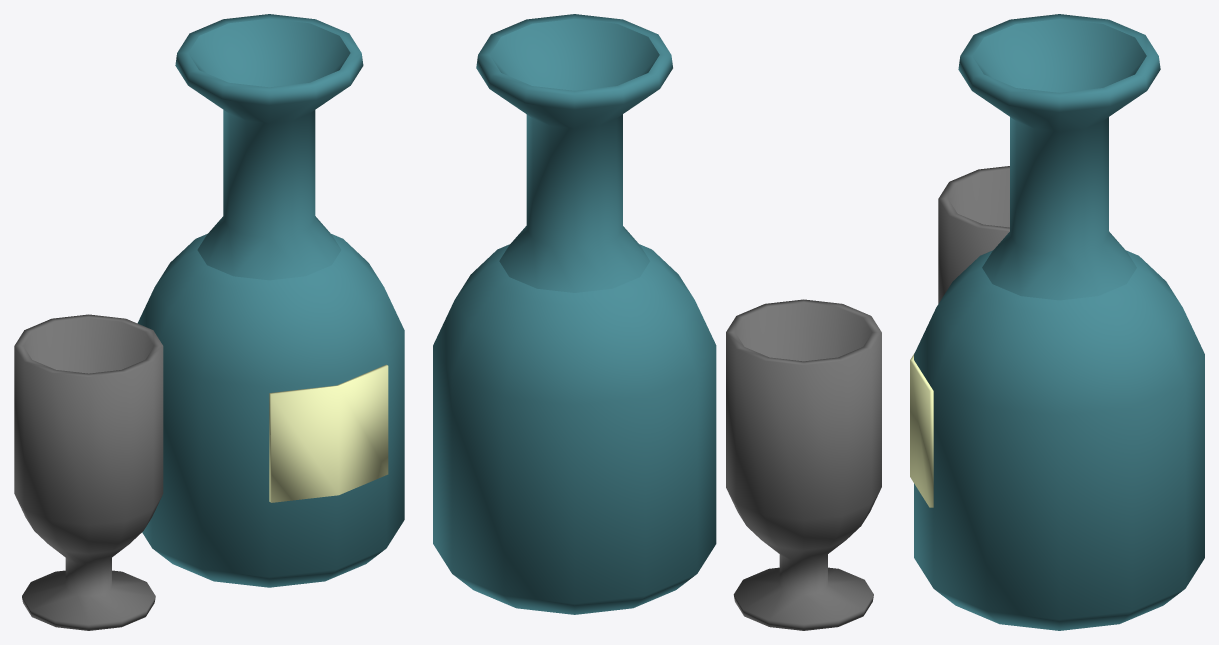
Rendered from GB_080_bottle_glass.glb.
The picture shows the model from 3 angles, left to right: view 1: azimuth 30°, elevation 25°; view 2: azimuth 150°, elevation 25°; view 3: azimuth 270°, elevation 25°; orthographic projection. The views are drawn at different scales.
Visible parts, largest first — view 1: Bottle_glass; view 2: Bottle_glass; view 3: Bottle_glass.
Boxes of the visible parts, x1=… form: Bottle_glass: x1=14, y1=14, x2=404, y2=630; Bottle_glass: x1=433, y1=14, x2=881, y2=630; Bottle_glass: x1=910, y1=14, x2=1204, y2=630.
Size of the model in its own units: 0.6151 by 0.7515 by 0.3832.
